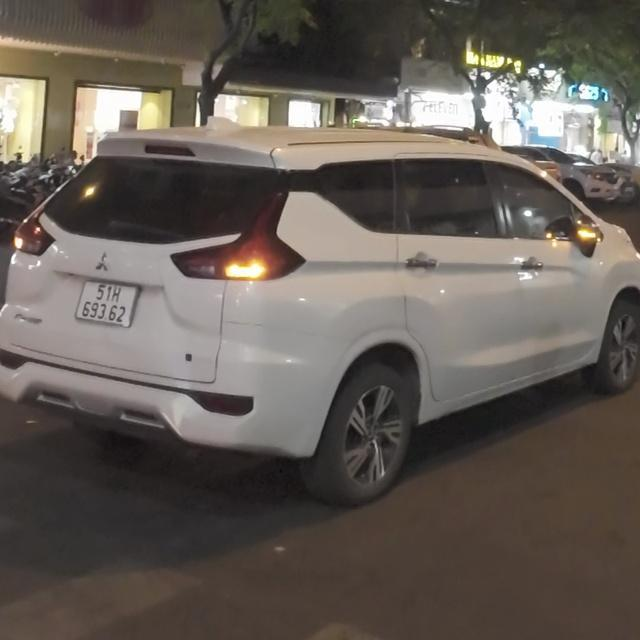car: (0, 122, 640, 506)
plate: (74, 278, 148, 331)
